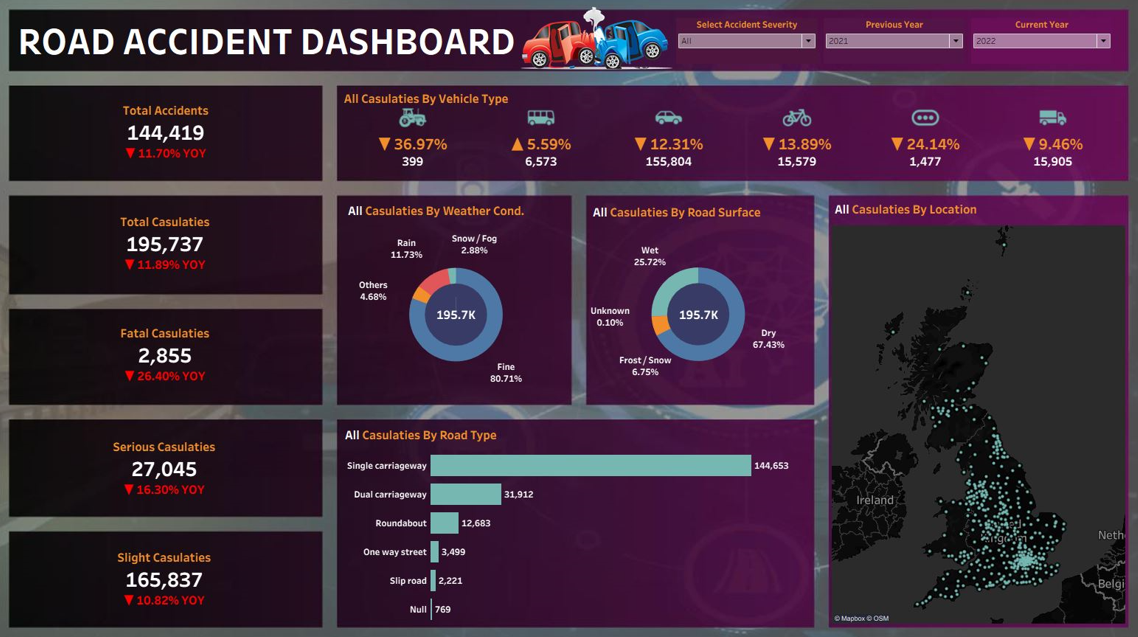

What the dashboard file says about the page in this screenshot:
{"tool":"tableau","page":{"name":"Dashboard 1","canvas":[1600,900],"ordinal":0},"visuals":[{"type":"image","param":"D:/Software/For Other/AI/Data Science/Tableau/Background_Png_Icon/Background/Roa","box":[8,8,1584,884]},{"type":"parameter","param":"[Parameters].[Parameter 2]","box":[940,38,200,70]},{"type":"parameter","param":"[Parameters].[Current Year (copy)_474566833975103489]","box":[1140,38,200,70]},{"type":"parameter","param":"[Parameters].[Parameter 1]","box":[1340,38,200,70]},{"type":"text","box":[49,42,725,59]},{"type":"text","box":[491,137,360,27]},{"type":"worksheet","title":"Total Accidents KPI","mark":"Automatic","box":[47,142,410,110]},{"type":"worksheet","title":"Vehicle Type Images","mark":"Shape","box":[496,156,1050,37]},{"type":"worksheet","title":"Vehicle Type KPI","mark":"Automatic","box":[496,193,1050,63]},{"type":"worksheet","title":"By Location","mark":"Automatic","rows":["Latitude"],"cols":["Longitude"],"box":[1155,286,398,577]},{"type":"worksheet","title":"By Weather Cond.","mark":"Pie","rows":["Calculation_644859195188080641","Calculation_644859195188125699"],"box":[495,288,301,275]},{"type":"worksheet","title":"By Road Surface","mark":"Pie","rows":["Calculation_644859195188080641","Calculation_644859195188125699"],"box":[827,290,294,270]},{"type":"worksheet","title":"Total Casulaties KPI","mark":"Automatic","box":[46,293,410,110]},{"type":"worksheet","title":"Fatal Casulaties KPI","mark":"Automatic","box":[46,444,410,110]},{"type":"worksheet","title":"By Road Type","mark":"Automatic","rows":["Road_Type"],"cols":["Calculation_474566833984884741"],"box":[491,592,632,271]},{"type":"worksheet","title":"Serious Casulaties KPI","mark":"Automatic","box":[45,598,410,110]},{"type":"worksheet","title":"Slight Casulaties KPI","mark":"Automatic","box":[45,748,410,110]}]}

Visuals, with their boxes in screenshot pixels (x1, y1, x2, y2), scaled from the page's 1600x900 canvas onto the 1138x637 screenshot:
image: l=6, t=6, r=1132, b=631
parameter: l=669, t=27, r=811, b=76
parameter: l=811, t=27, r=953, b=76
parameter: l=953, t=27, r=1095, b=76
text: l=35, t=30, r=551, b=71
text: l=349, t=97, r=605, b=116
"Total Accidents KPI" worksheet: l=33, t=101, r=325, b=178
"Vehicle Type Images" worksheet (Shape marks): l=353, t=110, r=1100, b=137
"Vehicle Type KPI" worksheet: l=353, t=137, r=1100, b=181
"By Location" worksheet: l=821, t=202, r=1105, b=611
"By Weather Cond." worksheet (Pie marks): l=352, t=204, r=566, b=398
"By Road Surface" worksheet (Pie marks): l=588, t=205, r=797, b=396
"Total Casulaties KPI" worksheet: l=33, t=207, r=324, b=285
"Fatal Casulaties KPI" worksheet: l=33, t=314, r=324, b=392
"By Road Type" worksheet: l=349, t=419, r=799, b=611
"Serious Casulaties KPI" worksheet: l=32, t=423, r=324, b=501
"Slight Casulaties KPI" worksheet: l=32, t=529, r=324, b=607
